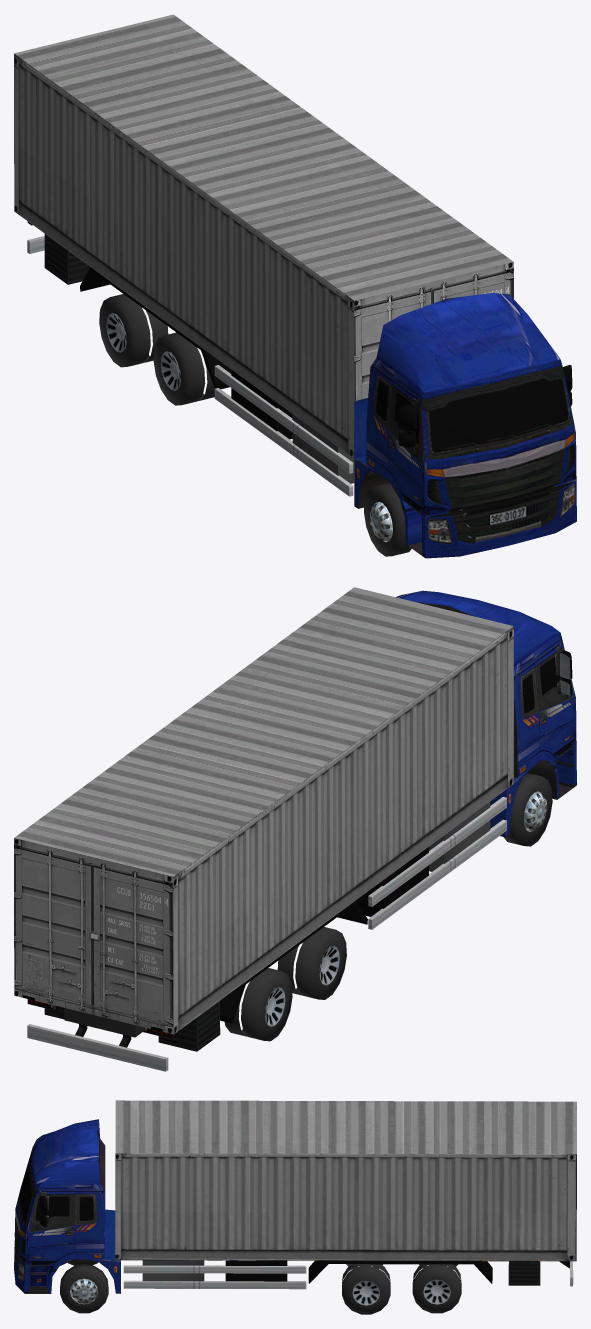
Rendered from thaco_auman.glb.
The picture shows the model from 3 angles, top to bottom: view 1: azimuth 30°, elevation 25°; view 2: azimuth 150°, elevation 25°; view 3: azimuth 270°, elevation 25°; orthographic projection. The views are drawn at different scales.
Parts seen in each view (by area): view 1: traffic_truck, RR.003, RR, FR, FR.001; view 2: traffic_truck, RR, RR.003, FR, FR.001, RR.001; view 3: traffic_truck, RL.001, RL.002, FL.001, FL.002, RL.004, RL.003.
Part boxes in pixels (x1=…): traffic_truck: x1=14, y1=14, x2=576, y2=558; RR.003: x1=99, y1=294, x2=168, y2=367; RR: x1=153, y1=332, x2=214, y2=405; FR: x1=364, y1=483, x2=411, y2=556; FR.001: x1=370, y1=501, x2=392, y2=542; traffic_truck: x1=14, y1=587, x2=576, y2=1071; RR: x1=277, y1=927, x2=346, y2=999; RR.003: x1=224, y1=968, x2=292, y2=1041; FR: x1=503, y1=773, x2=552, y2=846; FR.001: x1=523, y1=791, x2=546, y2=831; RR.001: x1=319, y1=945, x2=339, y2=985; traffic_truck: x1=14, y1=1100, x2=576, y2=1293; RL.001: x1=342, y1=1264, x2=390, y2=1314; RL.002: x1=412, y1=1264, x2=461, y2=1313; FL.001: x1=60, y1=1264, x2=108, y2=1313; FL.002: x1=70, y1=1278, x2=98, y2=1304; RL.004: x1=423, y1=1279, x2=450, y2=1304; RL.003: x1=352, y1=1280, x2=379, y2=1305.
Size of the model in its own units: 0.0285 by 0.0375 by 0.1184.
Materials: 4 (4 with a texture image).
